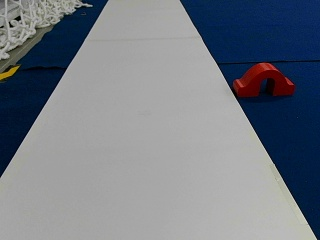bridge: (234, 62, 293, 95)
